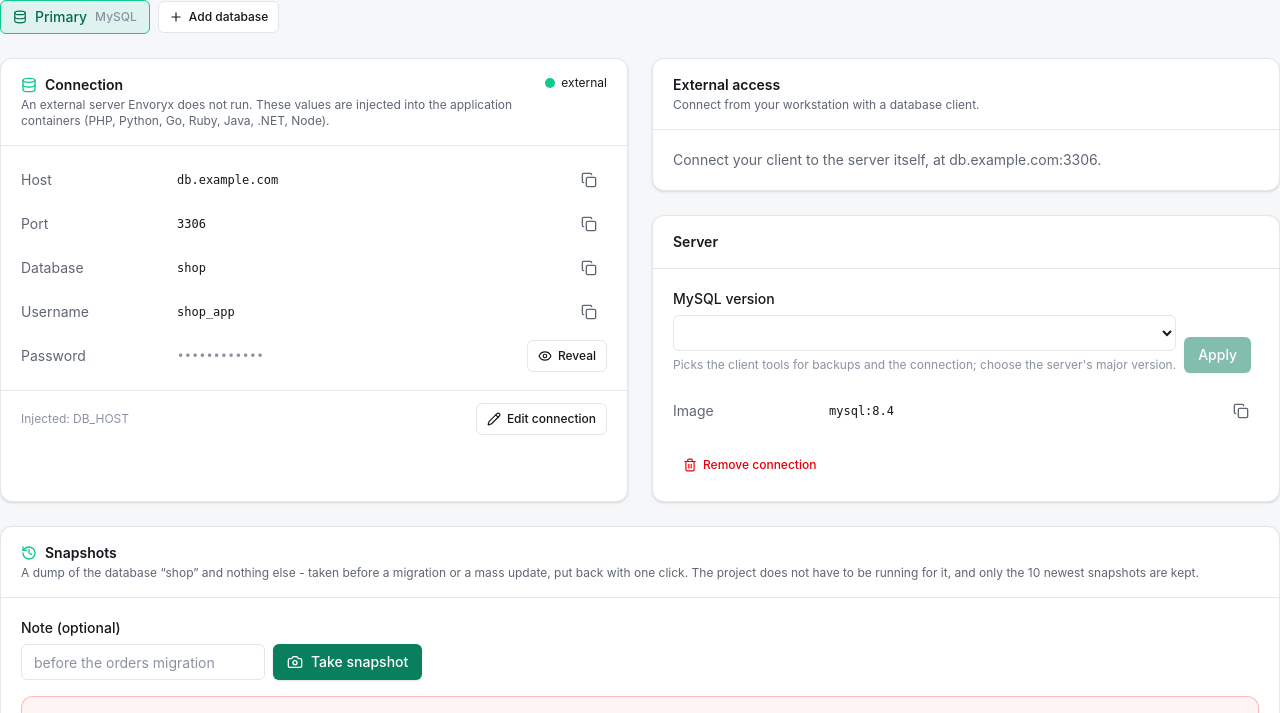
Test: DatabaseTab database browser › shows an external database without the container's controls and edits its connection
Expected: the text "db.example.com" is shown, top-left (177, 173), bottom-right (278, 187)
Expected: the text "Connect your client to the server itself, at db.example.com:3306." is shown, top-left (673, 151), bottom-right (1101, 168)
Click the button "Edit connection". click: (541, 419)
box: top-left (476, 403), bottom-right (607, 435)
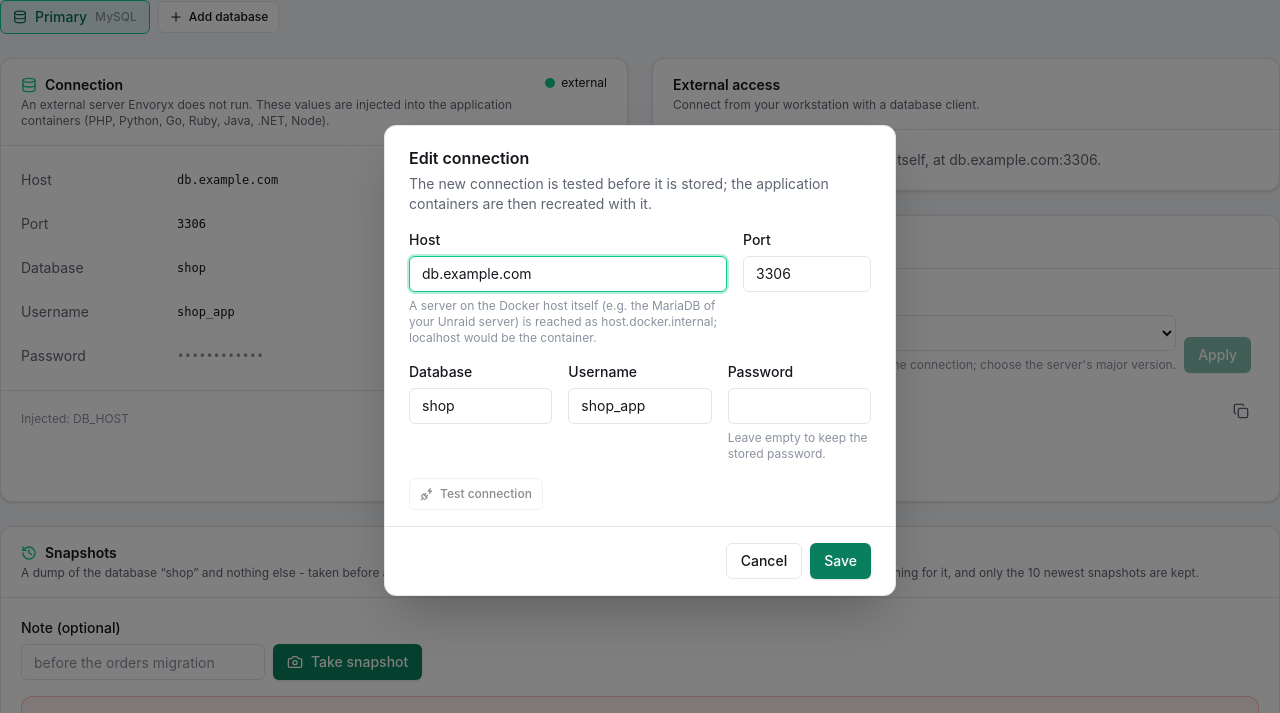
Expected: the field labelled "Host" holds "db.example.com"
Type "db2.example.com" into the field labelled "Host". click: (568, 274)
box: top-left (409, 256), bottom-right (727, 292)
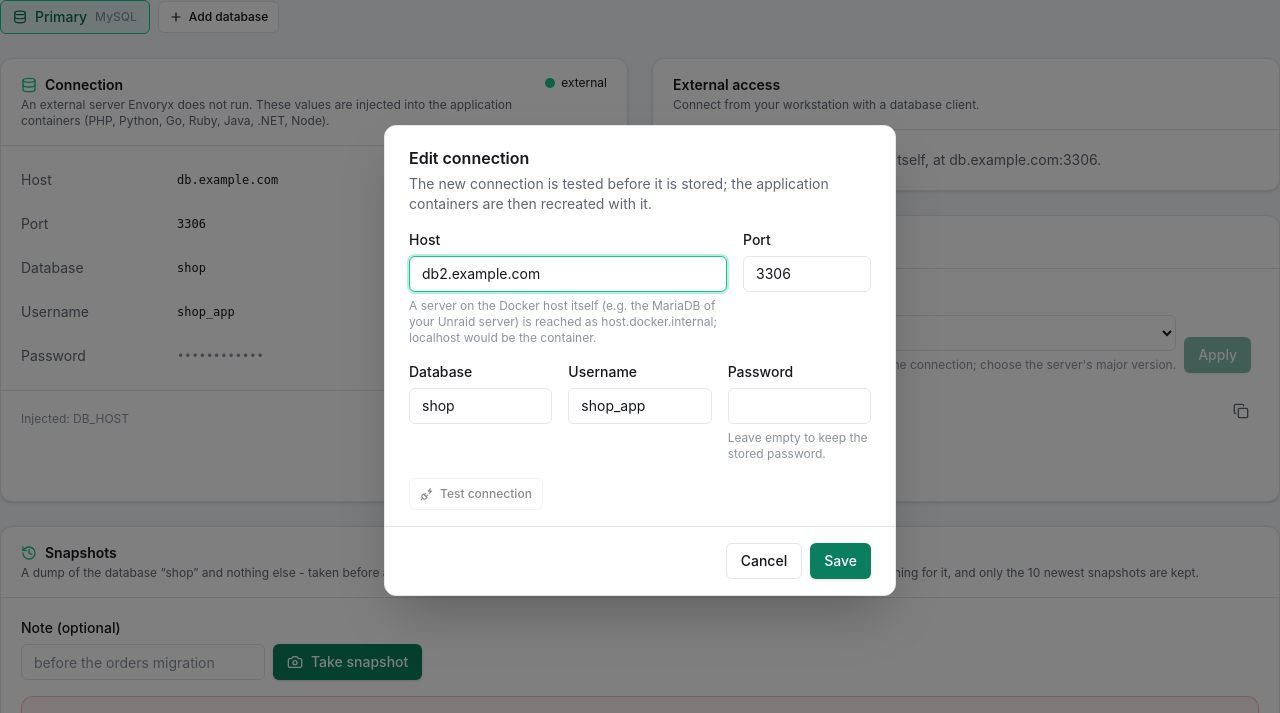
Click the button "Save". click: (841, 560)
box: top-left (810, 542), bottom-right (871, 578)
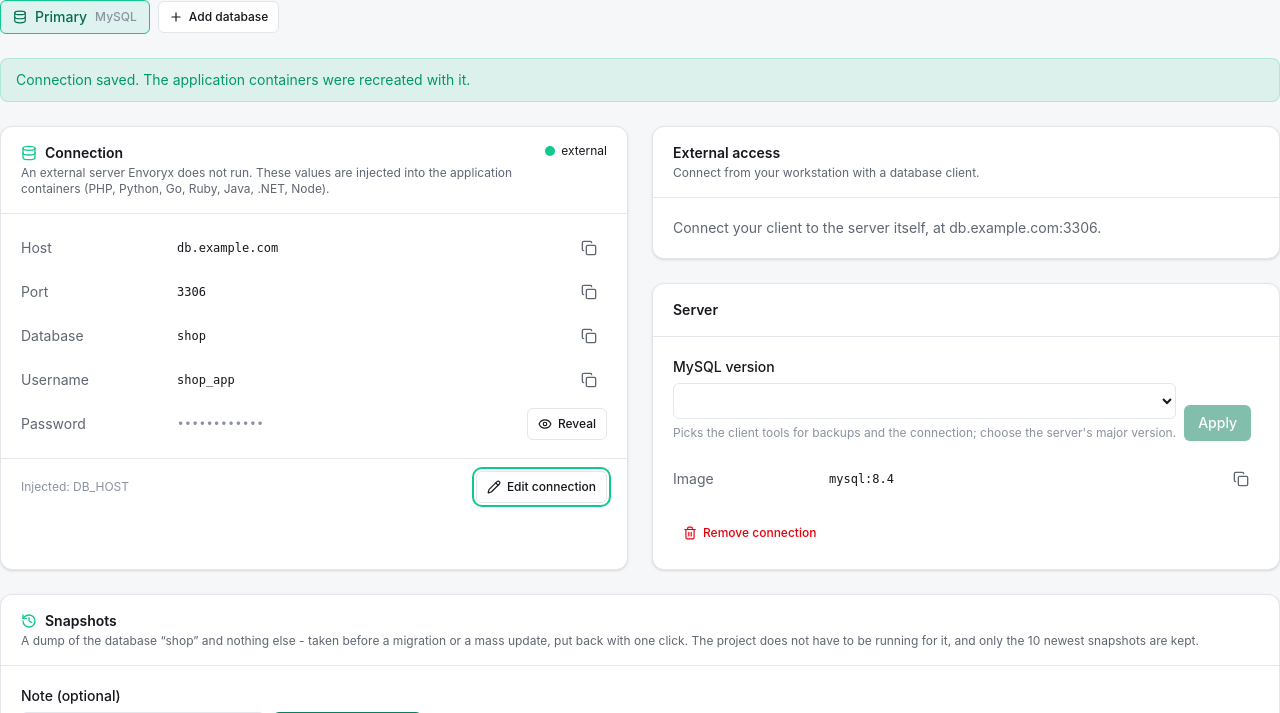
Click the button "Remove connection". click: (750, 533)
box: top-left (673, 517), bottom-right (826, 549)
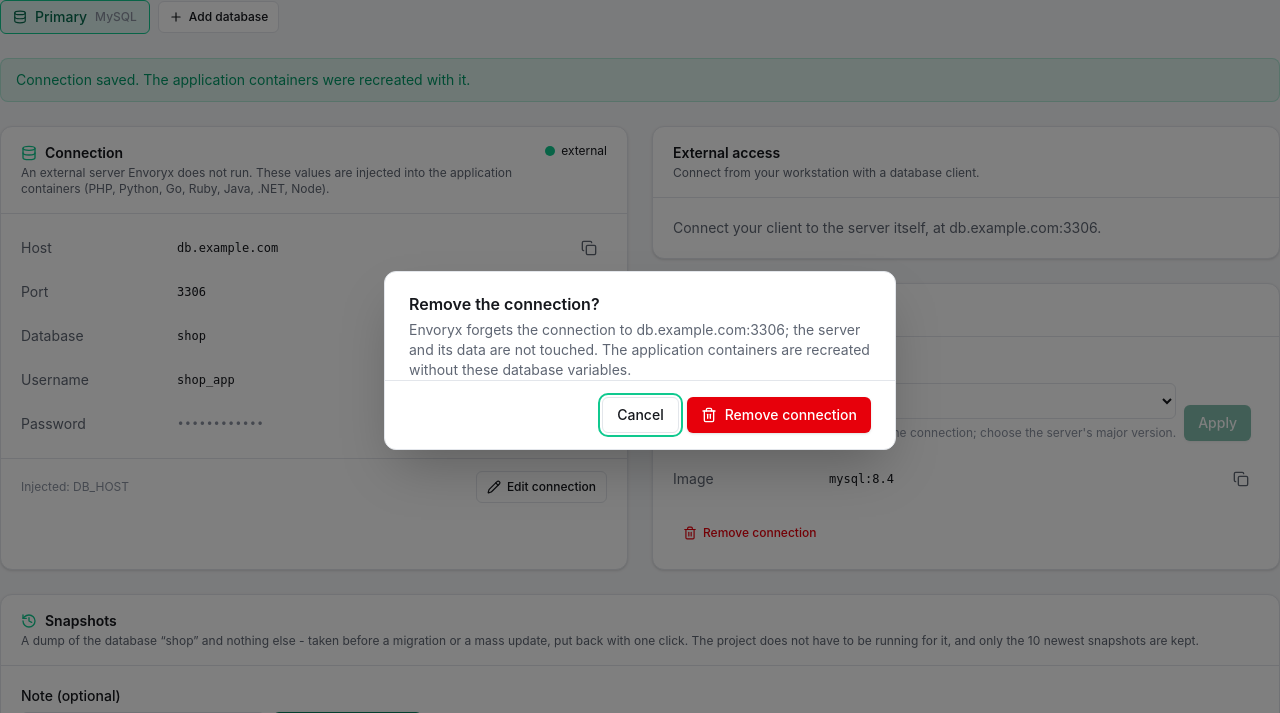
Expected: the button "Remove connection" is enabled, top-left (687, 396), bottom-right (871, 432)
